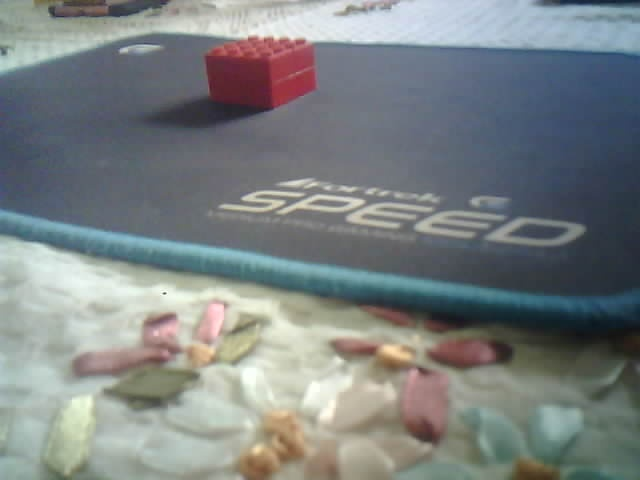lego: (203, 35, 316, 109)
